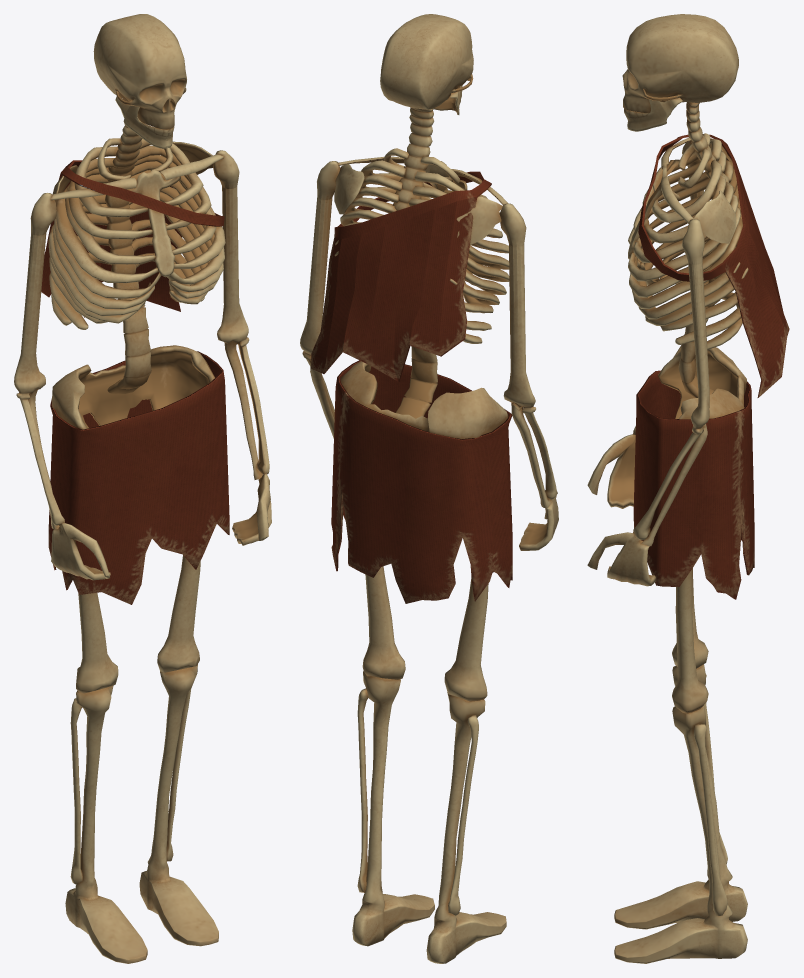
3 renders of one model, left to right at view 1: azimuth 30°, elevation 25°; view 2: azimuth 150°, elevation 25°; view 3: azimuth 270°, elevation 25°, orthographic.
Visible parts, largest first — view 1: SM_Enemy; view 2: SM_Enemy; view 3: SM_Enemy.
Boxes of the visible parts, x1,y1,x2,y2 form: SM_Enemy: (14,14,271,963); SM_Enemy: (300,14,558,963); SM_Enemy: (587,14,789,963).
Size of the model in its own units: 0.4686 by 1.75 by 0.3488.
1 material, 1 textured.
